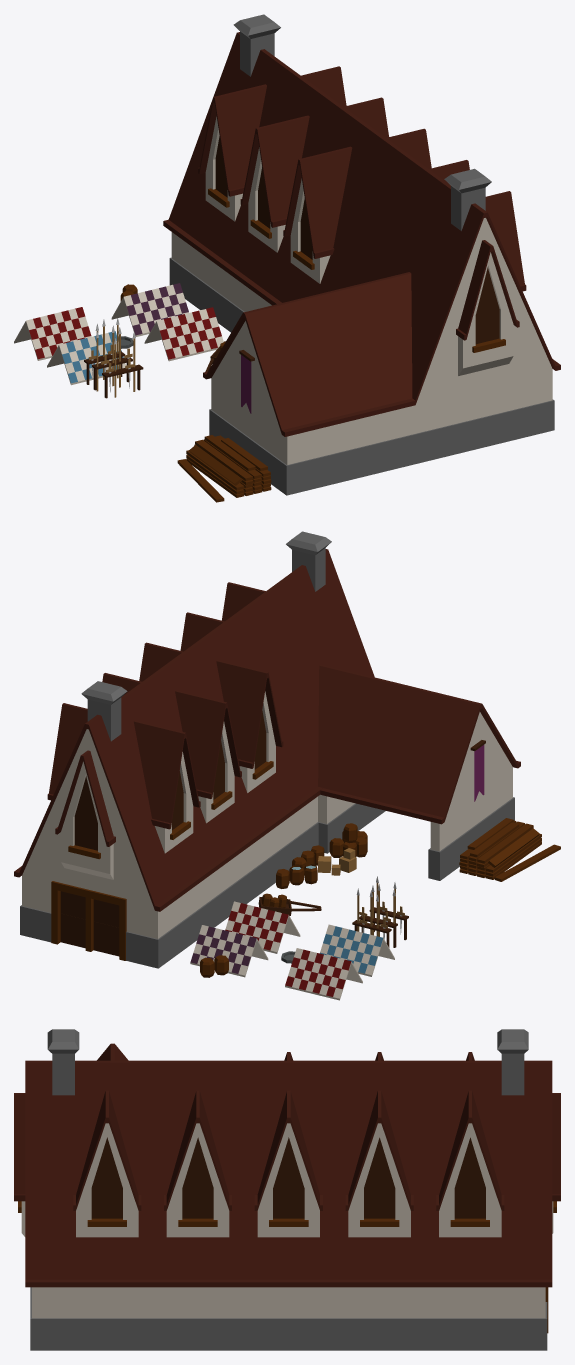
The model's file is Barracksv1.fbx.
The picture shows the model from 3 angles, top to bottom: view 1: azimuth 30°, elevation 25°; view 2: azimuth 150°, elevation 25°; view 3: azimuth 270°, elevation 25°; orthographic projection. The views are drawn at different scales.
Parts seen in each view (by area): view 1: Plane.158; view 2: Plane.158; view 3: Plane.158.
Part boxes in pixels (left/top/right/bottom): Plane.158: left=14, top=14, right=560, bottom=502; Plane.158: left=14, top=531, right=560, bottom=1000; Plane.158: left=14, top=1029, right=560, bottom=1350.
Bounding box in the file's own units: 249 × 190 × 334.
